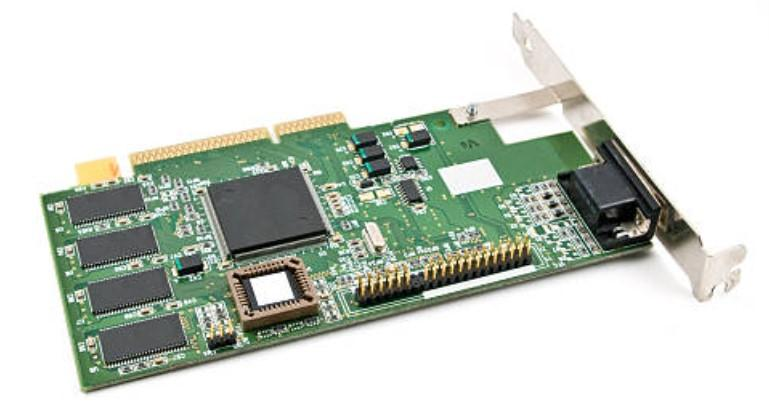Printed Circuit Board PCB: (41, 110, 650, 390)
